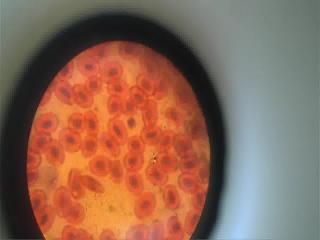cell: (53, 186, 74, 217), (58, 128, 82, 151), (177, 130, 200, 154), (46, 140, 66, 166), (109, 117, 131, 140), (163, 104, 186, 126), (82, 107, 100, 134), (36, 205, 54, 232), (36, 113, 60, 133), (70, 171, 87, 198), (137, 195, 158, 216), (136, 72, 156, 94), (103, 59, 126, 78), (148, 166, 168, 187), (57, 80, 74, 104), (29, 185, 46, 209), (90, 156, 110, 176), (101, 134, 121, 154), (126, 173, 146, 193), (79, 57, 100, 76), (177, 173, 199, 191), (108, 79, 130, 96), (156, 153, 178, 170), (124, 153, 148, 168), (130, 86, 146, 108), (126, 224, 148, 240), (145, 102, 160, 125), (118, 43, 138, 60), (181, 157, 207, 170), (67, 112, 85, 130), (85, 77, 104, 94), (110, 161, 124, 184), (186, 209, 200, 232), (76, 86, 92, 106), (105, 95, 121, 115), (128, 136, 146, 152), (164, 190, 180, 208), (143, 128, 165, 141), (83, 138, 100, 154), (32, 135, 48, 152), (170, 216, 183, 236), (193, 192, 208, 208)
